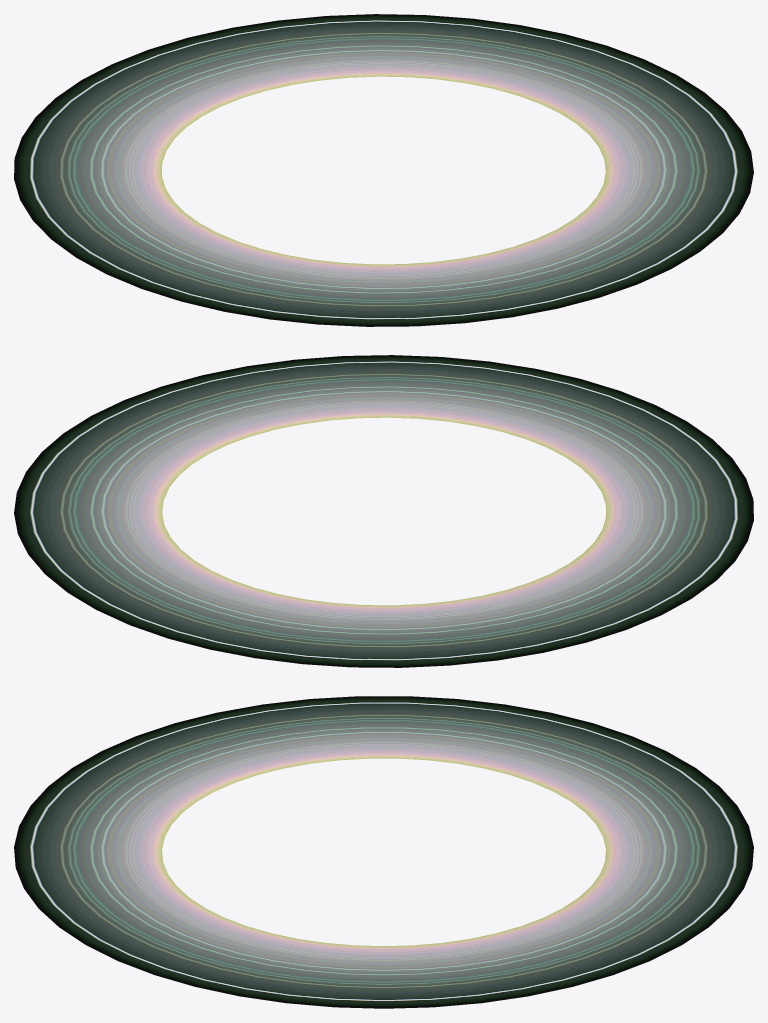
File: UranusRing.obj
3 views of the same model, one above another, from view 1: azimuth 30°, elevation 25°; view 2: azimuth 150°, elevation 25°; view 3: azimuth 270°, elevation 25° (orthographic).
Visible parts, largest first — view 1: Torus; view 2: Torus; view 3: Torus.
Part boxes in pixels (left/top/right/bottom): Torus: left=14, top=14, right=753, bottom=326; Torus: left=14, top=355, right=753, bottom=667; Torus: left=14, top=696, right=753, bottom=1008.
Size of the model in its own units: 64.93 by 0.2 by 64.96.
1 material, 1 textured.
